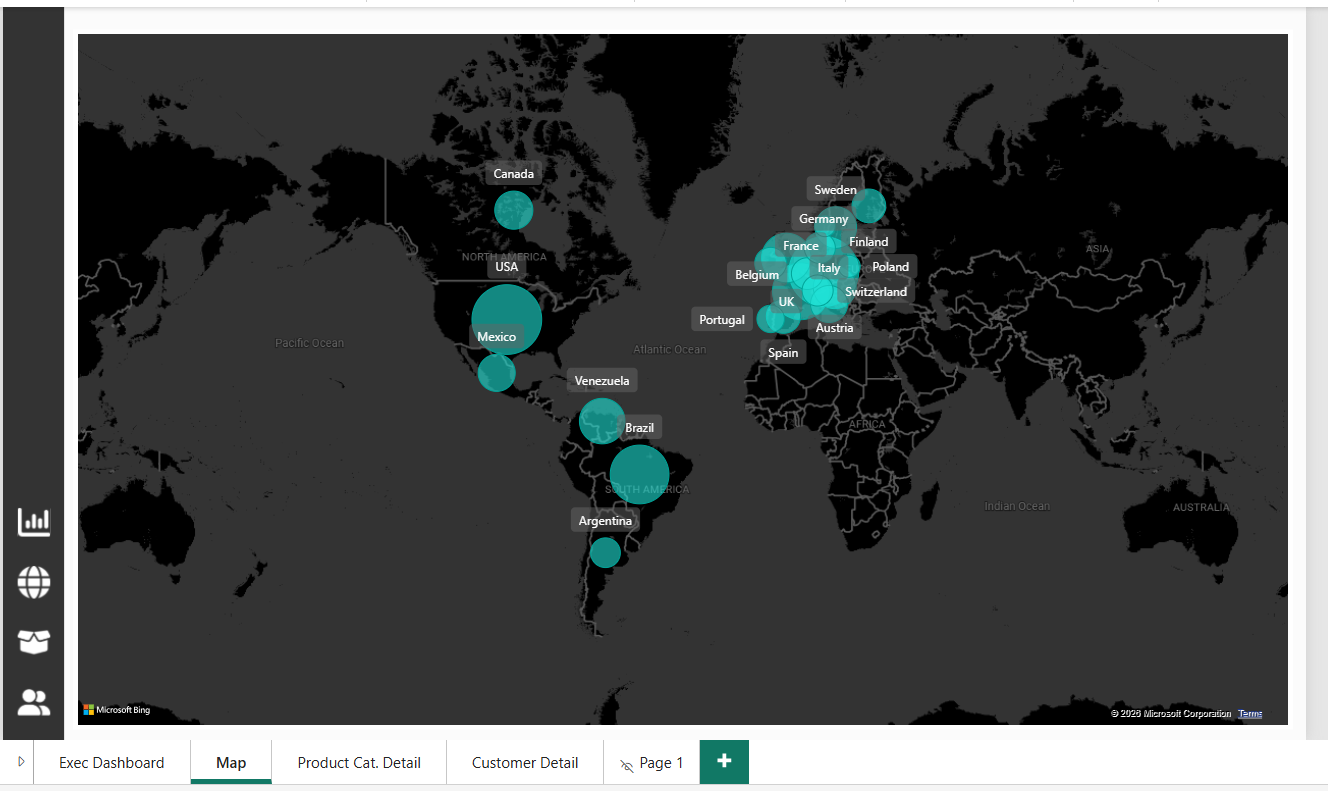

This screenshot's page, from the dashboard's own definition file:
{"tool":"powerbi","page":{"name":"Map","canvas":[1280,720],"ordinal":1},"visuals":[{"type":"map","fields":{"Category":["customers.Country"],"Size":["Measure Table.Total Orders"]},"box":[68.7,22.1,1197.6,687.1],"z":0},{"type":"shape","box":[0,0,60.1,720.2],"z":1000},{"type":"actionButton","box":[0,481,60.1,50.3],"z":1000,"group":"g1"},{"type":"group","id":"g1","title":"Navigation","box":[0,481,60.1,227],"z":2000},{"type":"actionButton","box":[0,539.9,60.1,50.3],"z":2000,"group":"g1"},{"type":"actionButton","box":[0,598.8,60.1,50.3],"z":3000,"group":"g1"},{"type":"actionButton","box":[0,657.7,60.1,50.3],"z":4000,"group":"g1"}]}

Visuals, with their boxes on the page's 1280x720 design canvas (x1, y1, x2, y2). These are canvas units, not pixel positions in the 1328x791 screenshot, which may show the page scaled, cropped or inside an application window:
map - customers.Country x Measure Table.Total Orders: 69,22,1266,709
shape: 0,0,60,720
actionButton: 0,481,60,531
"Navigation" group: 0,481,60,708
actionButton: 0,540,60,590
actionButton: 0,599,60,649
actionButton: 0,658,60,708
